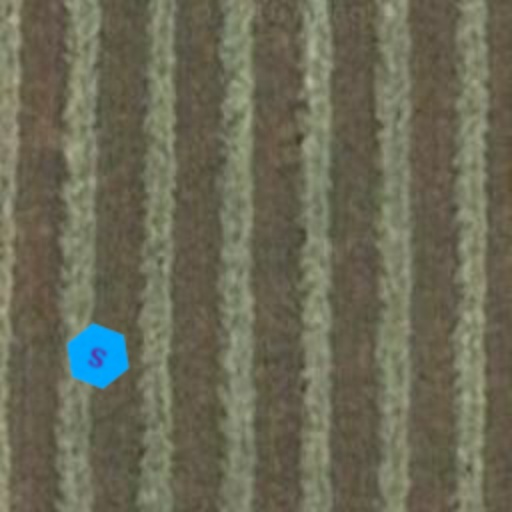hexagon: (54, 312, 142, 400)
